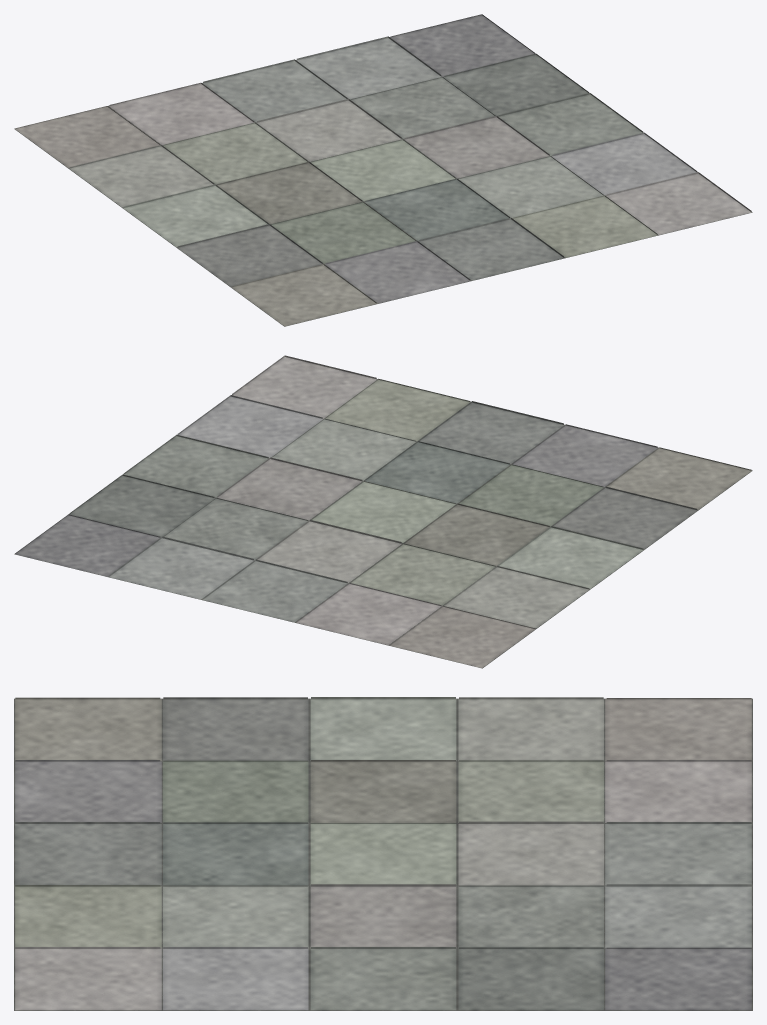
The model's file is E07_SOLOZ2_P2_PISO_SERVICO_BASE.glb.
The picture shows the model from 3 angles, top to bottom: view 1: azimuth 30°, elevation 25°; view 2: azimuth 150°, elevation 25°; view 3: azimuth 270°, elevation 25°; orthographic projection. The views are drawn at different scales.
Parts seen in each view (by area): view 1: substrato_pbr_juntas, pecas_minerais_relevo_3d; view 2: substrato_pbr_juntas, pecas_minerais_relevo_3d; view 3: substrato_pbr_juntas, pecas_minerais_relevo_3d.
Part boxes in pixels (x1,y1,x2,y2): substrato_pbr_juntas: [14, 15, 752, 326]; pecas_minerais_relevo_3d: [15, 14, 751, 303]; substrato_pbr_juntas: [14, 357, 752, 668]; pecas_minerais_relevo_3d: [15, 355, 751, 645]; substrato_pbr_juntas: [14, 698, 752, 1010]; pecas_minerais_relevo_3d: [15, 697, 751, 948].
Size of the model in its own units: 2 by 0.00696 by 2.
1 material, 1 textured.
